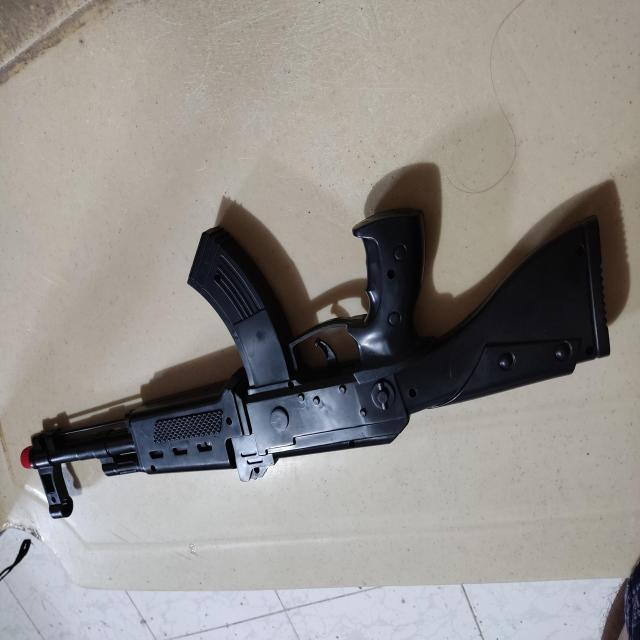rifle: (20, 205, 611, 520)
